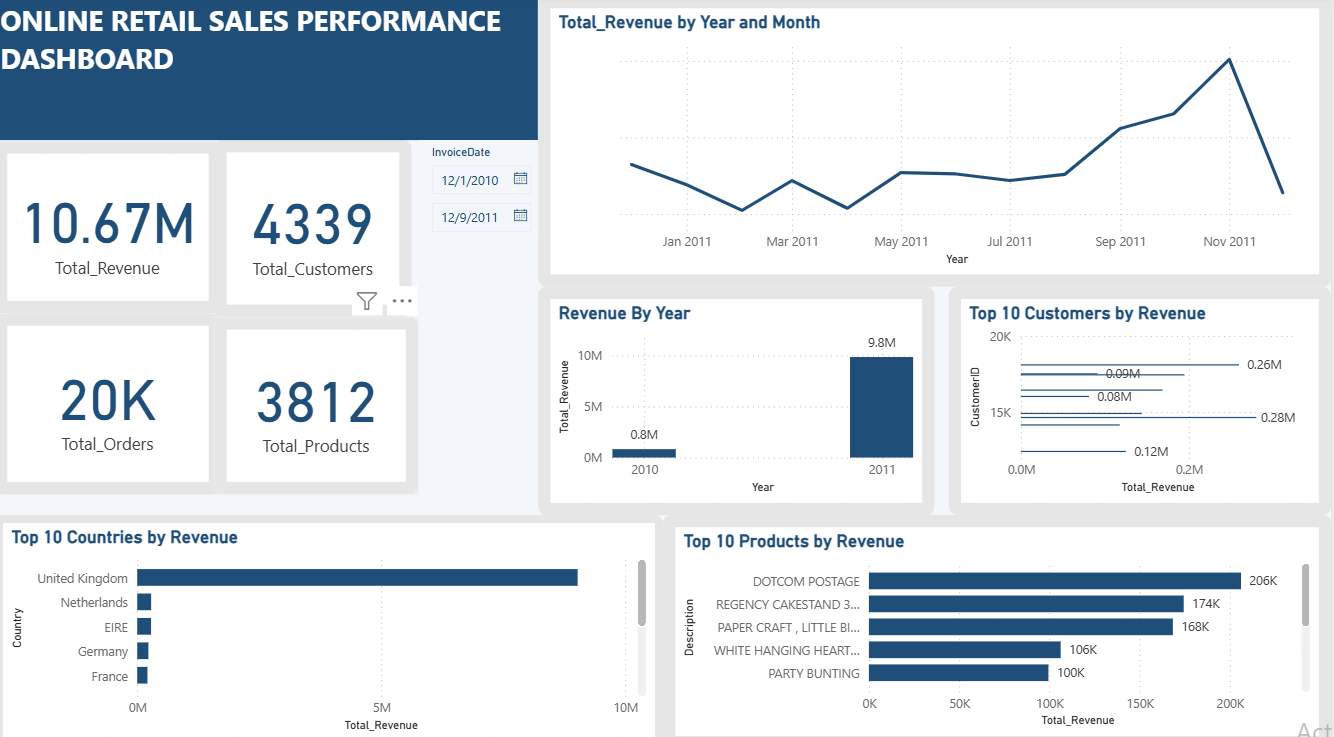

This screenshot's page, from the dashboard's own definition file:
{"tool":"powerbi","page":{"name":"Page 1","canvas":[1280,720],"ordinal":0},"visuals":[{"type":"card","fields":{"Values":["DAX MEASURES.Total_Revenue"]},"box":[0,139.2,216.2,164.9],"z":0},{"type":"card","fields":{"Values":["DAX MEASURES.Total_Orders"]},"box":[0,304.1,216.2,173.4],"z":1000},{"type":"card","fields":{"Values":["DAX MEASURES.Total_Customers"]},"box":[210.1,138,189.3,169.8],"z":2000},{"type":"card","fields":{"Values":["DAX MEASURES.Total_Products"]},"box":[210.1,307.8,195.4,169.8],"z":3000},{"type":"lineChart","fields":{"Y":["DAX MEASURES.Total_Revenue"],"Category":["Online Retail.InvoiceDate.Variation.Date Hierarchy.Year","Online Retail.InvoiceDate.Variation.Date Hierarchy.Month"]},"box":[520.3,0,759.7,278.5],"z":4000},{"type":"clusteredBarChart","title":"Top 10 Countries by Revenue","fields":{"Category":["Online Retail.Country"],"Y":["DAX MEASURES.Total_Revenue"]},"box":[0,497.1,640,223.5],"z":5000},{"type":"clusteredBarChart","title":"Top 10 Products by Revenue","fields":{"Category":["Online Retail.Description"],"Y":["DAX MEASURES.Total_Revenue"]},"box":[640,497.1,640,223.5],"z":6000},{"type":"clusteredBarChart","title":"Top 10 Customers by Revenue","fields":{"Category":["Online Retail.CustomerID"],"Y":["DAX MEASURES.Total_Revenue"]},"box":[913.6,278.5,366.4,218.6],"z":7000},{"type":"clusteredColumnChart","title":"Revenue By Year","fields":{"Category":["Online Retail.InvoiceDate.Variation.Date Hierarchy.Year","Online Retail.InvoiceDate.Variation.Date Hierarchy.Quarter","Online Retail.InvoiceDate.Variation.Date Hierarchy.Month","Online Retail.InvoiceDate.Variation.Date Hierarchy.Day"],"Y":["DAX MEASURES.Total_Revenue"]},"box":[520.3,278.5,379.8,218.6],"z":8000},{"type":"textbox","box":[0,0,520.3,138],"z":8001},{"type":"slicer","fields":{"Values":["Online Retail.InvoiceDate"]},"box":[405.5,138,114.8,91.6],"z":8002}]}

Visuals, with their boxes in screenshot pixels (x1, y1, x2, y2), scaled from the page's 1280x720 canvas onto the 1334x737 screenshot:
card - DAX MEASURES.Total_Revenue: Rect(0, 142, 225, 311)
card - DAX MEASURES.Total_Orders: Rect(0, 311, 225, 489)
card - DAX MEASURES.Total_Customers: Rect(219, 141, 416, 315)
card - DAX MEASURES.Total_Products: Rect(219, 315, 423, 489)
lineChart - DAX MEASURES.Total_Revenue x Online Retail.InvoiceDate.Variation.Date Hierarchy.Year: Rect(542, 0, 1333, 285)
"Top 10 Countries by Revenue" clusteredBarChart: Rect(0, 509, 667, 736)
"Top 10 Products by Revenue" clusteredBarChart: Rect(667, 509, 1333, 736)
"Top 10 Customers by Revenue" clusteredBarChart: Rect(952, 285, 1333, 509)
"Revenue By Year" clusteredColumnChart: Rect(542, 285, 938, 509)
textbox: Rect(0, 0, 542, 141)
slicer - Online Retail.InvoiceDate: Rect(423, 141, 542, 235)
